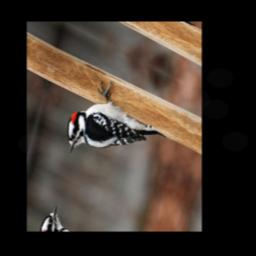Woodpecker: (61, 67, 172, 195)
